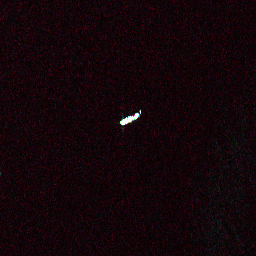ship: (117, 109, 142, 127)
